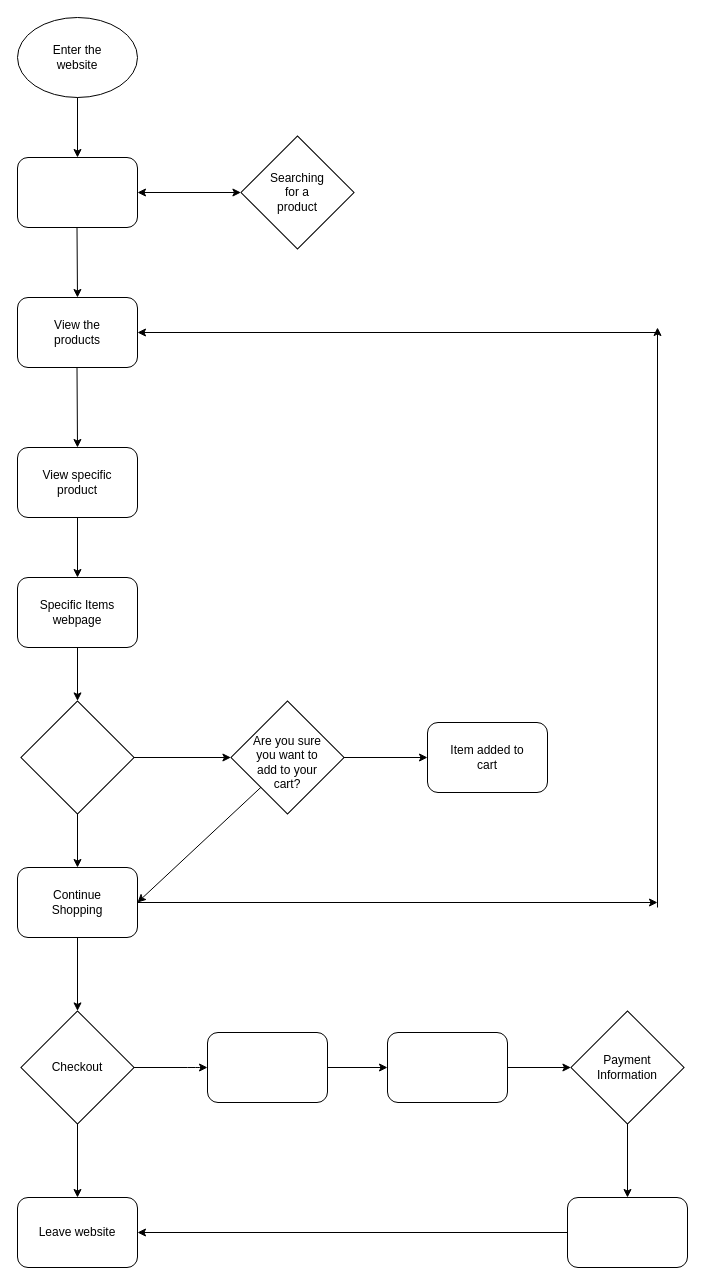
The diagram is 705 pixels wide and 1285 high, and some of its shapes have lost their labels. Each missing label, with the centre of its shape:
Add to Cart: pixel 77 757
Explore the products on the home page: pixel 77 192
Order Confirmation Screen and Email Receipt: pixel 627 1232
View cart screen: pixel 267 1067
View Payment screen: pixel 447 1067
